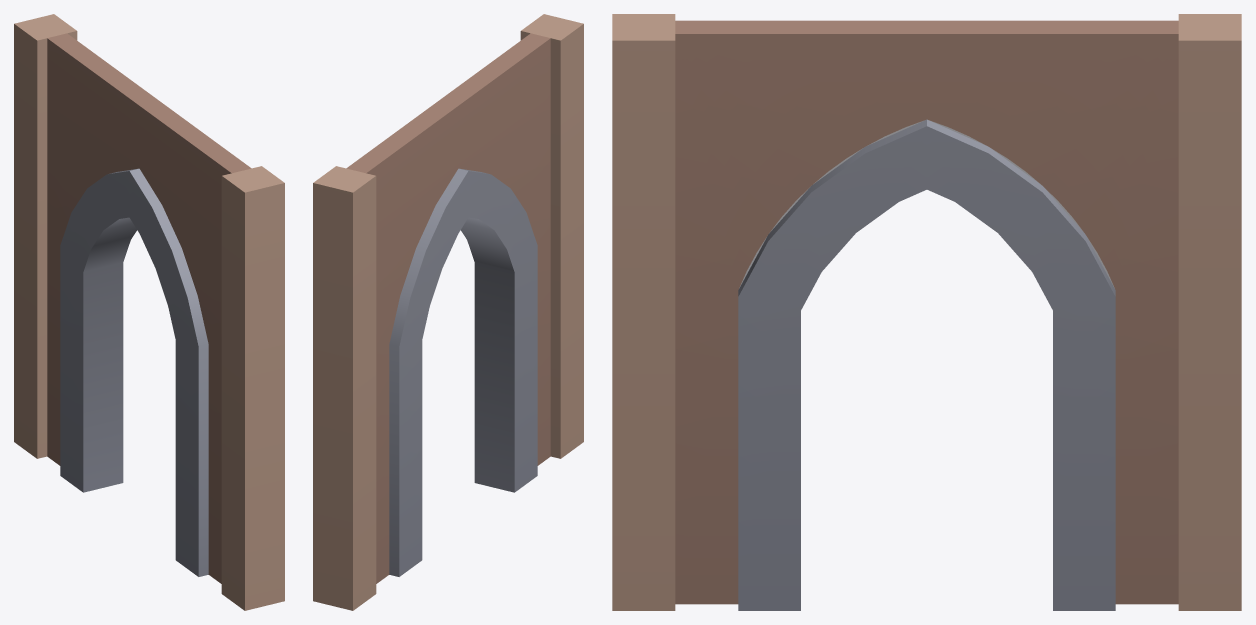
The model's file is wall-wood-doorway-round.glb.
3 renders of one model, left to right at view 1: azimuth 30°, elevation 25°; view 2: azimuth 150°, elevation 25°; view 3: azimuth 270°, elevation 25°, orthographic. The views are drawn at different scales.
Parts seen in each view (by area): view 1: wall-wood-doorway-round; view 2: wall-wood-doorway-round; view 3: wall-wood-doorway-round.
Boxes of the visible parts, box(x1,y1,x2,y2) form: wall-wood-doorway-round: box(14, 14, 284, 610); wall-wood-doorway-round: box(313, 14, 583, 610); wall-wood-doorway-round: box(612, 14, 1241, 610).
Bounding box in the file's own units: 0.1 × 1 × 1.
